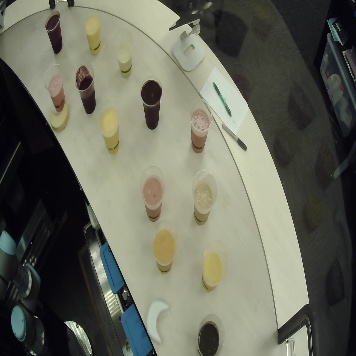full_cup: (192, 168, 215, 226), (195, 313, 226, 356), (140, 166, 164, 221), (139, 76, 163, 129), (200, 240, 224, 291), (151, 227, 175, 276), (74, 63, 97, 114), (98, 104, 121, 155), (188, 99, 210, 152), (44, 62, 67, 111), (44, 10, 63, 55), (82, 12, 101, 57), (114, 32, 133, 77)
puck: (145, 299, 171, 345), (49, 103, 69, 132)
